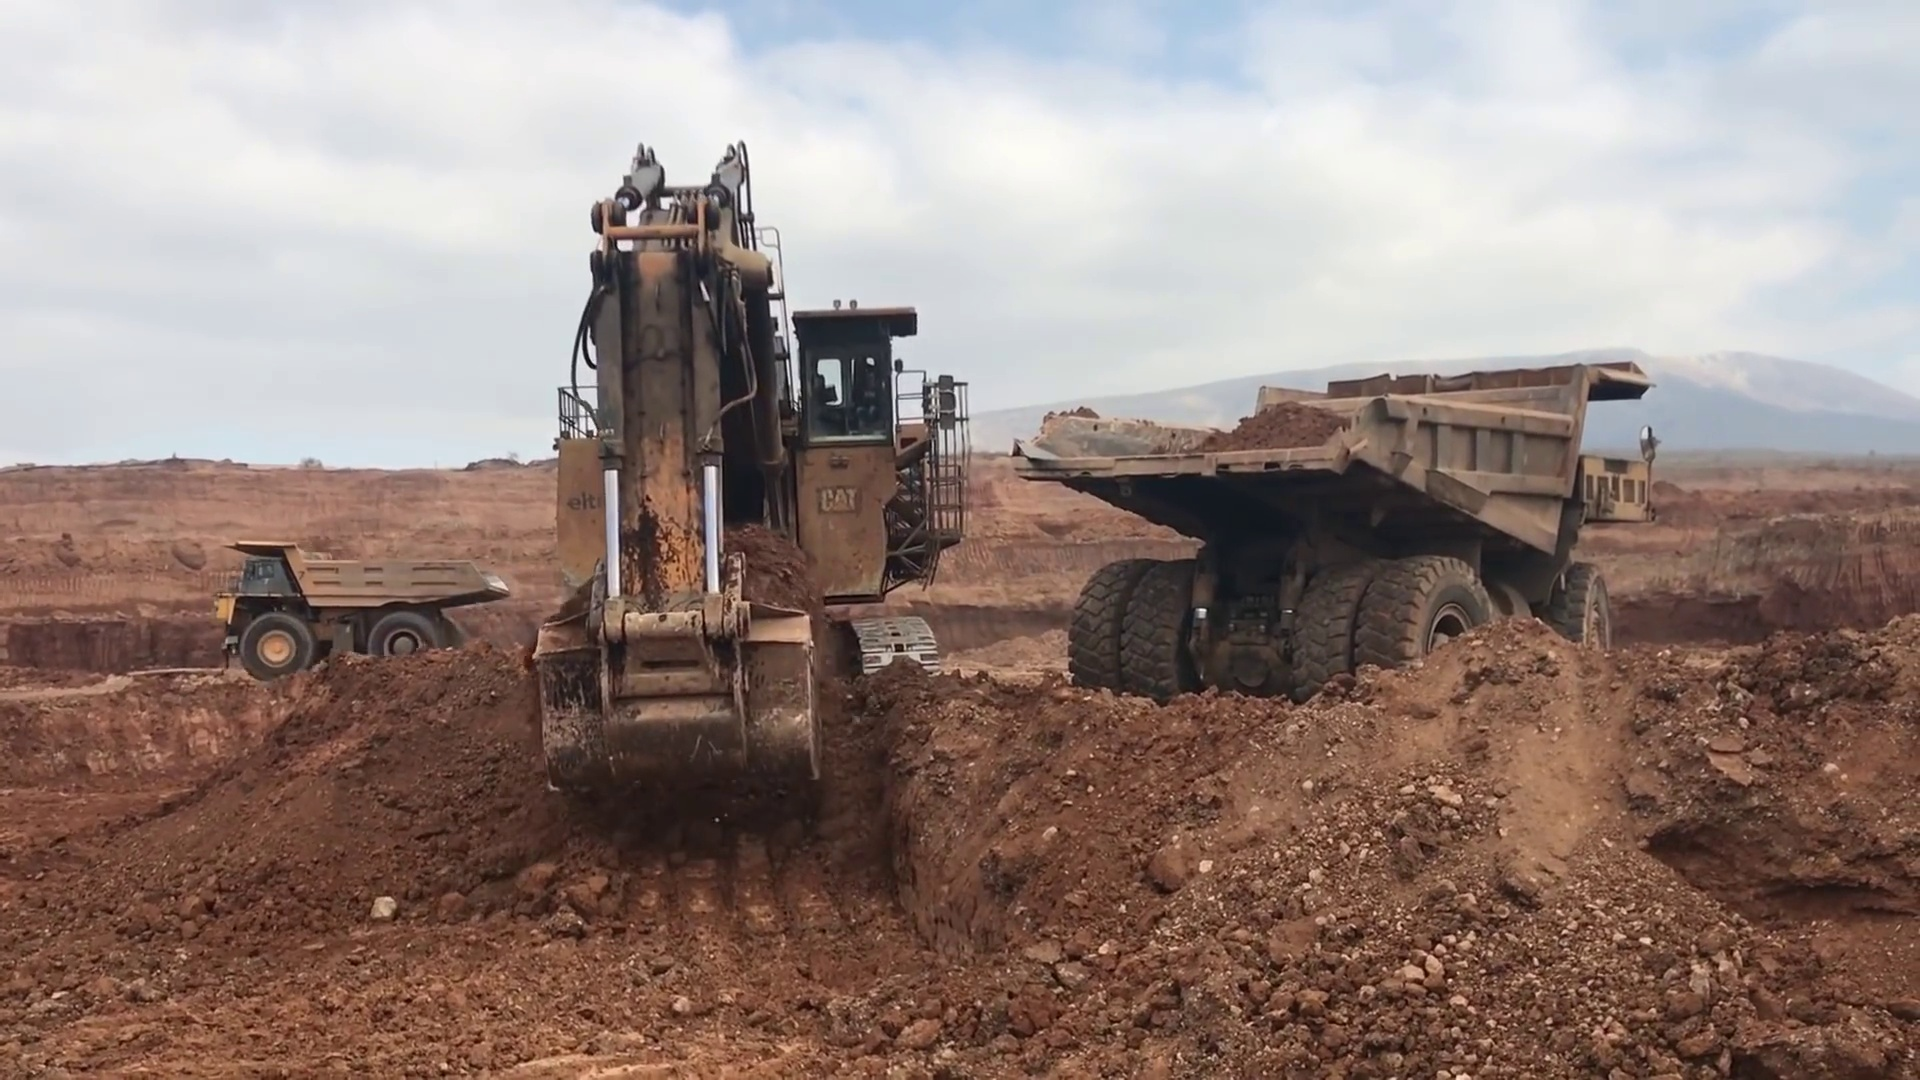dumper: (1011, 359, 1664, 709), (215, 535, 512, 679)
excavator: (534, 128, 967, 814)
